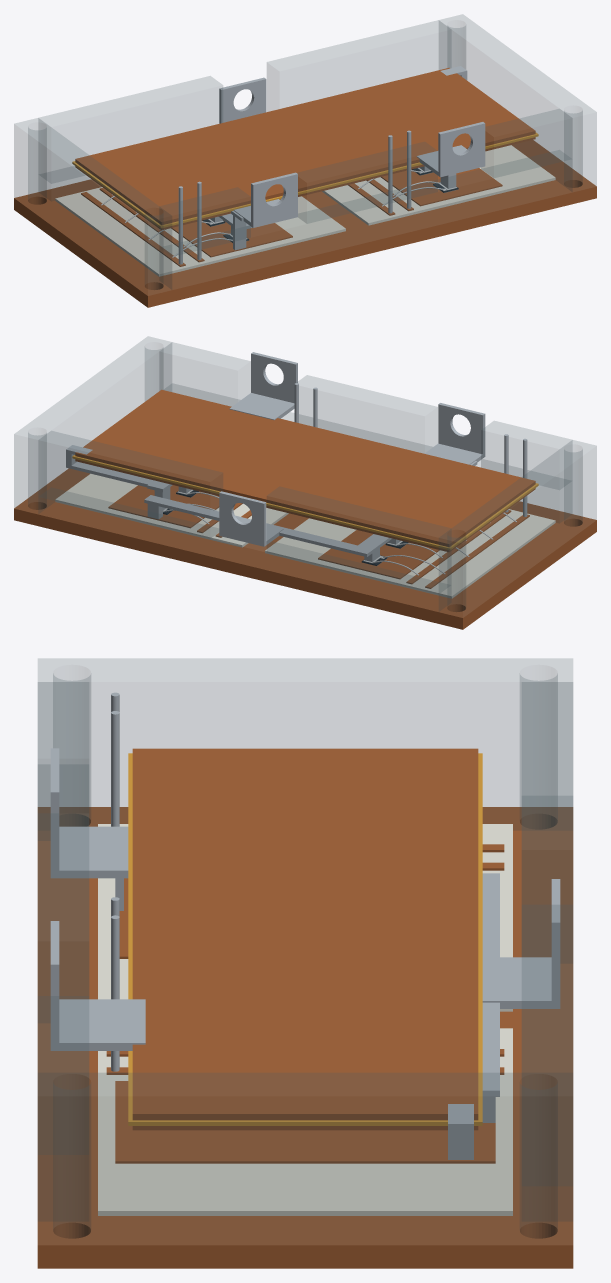
The model's file is half-bridge.glb.
3 views of the same model, one above another, from view 1: azimuth 30°, elevation 25°; view 2: azimuth 150°, elevation 25°; view 3: azimuth 270°, elevation 25° (orthographic). The views are drawn at different scales.
Visible parts, largest first — view 1: housing-pps-frame, busbar-n, baseplate-copper, amb-ceramic-sh, amb-ceramic-sl, dc-terminal-n, amb-drain-sl, dc-terminal-p, amb-drain-sh, ac-terminal-out, busbar-insulation, busbar-p (+3 smaller); view 2: housing-pps-frame, busbar-n, baseplate-copper, amb-ceramic-sh, amb-ceramic-sl, dc-terminal-n, dc-terminal-p, amb-drain-sh, ac-source-drain-strap, ac-terminal-out, amb-drain-sl, busbar-insulation (+4 smaller); view 3: housing-pps-frame, busbar-n, baseplate-copper, amb-ceramic-sl, amb-drain-sl, dc-terminal-n, busbar-insulation, dc-terminal-p, ac-terminal-out, amb-ceramic-sh, ac-source-drain-strap, busbar-p (+3 smaller).
Boxes of the visible parts, x1=… form: housing-pps-frame: x1=14, y1=14, x2=596, y2=295; busbar-n: x1=75, y1=67, x2=535, y2=224; baseplate-copper: x1=14, y1=140, x2=596, y2=307; amb-ceramic-sh: x1=55, y1=187, x2=345, y2=276; amb-ceramic-sl: x1=322, y1=145, x2=555, y2=225; dc-terminal-n: x1=416, y1=122, x2=485, y2=177; amb-drain-sl: x1=380, y1=168, x2=502, y2=206; dc-terminal-p: x1=233, y1=172, x2=297, y2=227; amb-drain-sh: x1=171, y1=221, x2=292, y2=257; ac-terminal-out: x1=219, y1=77, x2=266, y2=123; busbar-insulation: x1=72, y1=132, x2=538, y2=227; busbar-p: x1=75, y1=137, x2=535, y2=229; housing-pps-frame: x1=14, y1=336, x2=596, y2=617; busbar-n: x1=75, y1=389, x2=535, y2=546; baseplate-copper: x1=14, y1=468, x2=596, y2=629; amb-ceramic-sh: x1=265, y1=509, x2=555, y2=598; amb-ceramic-sl: x1=55, y1=473, x2=288, y2=547; dc-terminal-n: x1=229, y1=352, x2=297, y2=420; dc-terminal-p: x1=424, y1=403, x2=485, y2=464; amb-drain-sh: x1=318, y1=530, x2=439, y2=579; ac-source-drain-strap: x1=144, y1=495, x2=392, y2=556; ac-terminal-out: x1=219, y1=491, x2=283, y2=546; amb-drain-sl: x1=108, y1=485, x2=219, y2=528; busbar-insulation: x1=72, y1=455, x2=538, y2=549; housing-pps-frame: x1=37, y1=658, x2=573, y2=1244; busbar-n: x1=132, y1=748, x2=478, y2=1120; baseplate-copper: x1=37, y1=807, x2=573, y2=1268; amb-ceramic-sl: x1=98, y1=1028, x2=512, y2=1215; amb-drain-sl: x1=115, y1=1081, x2=495, y2=1163; dc-terminal-n: x1=50, y1=921, x2=145, y2=1050; busbar-insulation: x1=128, y1=753, x2=482, y2=1125; dc-terminal-p: x1=50, y1=748, x2=128, y2=878; ac-terminal-out: x1=482, y1=879, x2=560, y2=1008; amb-ceramic-sh: x1=98, y1=824, x2=512, y2=1011; ac-source-drain-strap: x1=482, y1=873, x2=499, y2=1122; busbar-p: x1=132, y1=1126, x2=478, y2=1130.
Bounding box in the file's own units: 0.12 × 0.0253 × 0.062.
